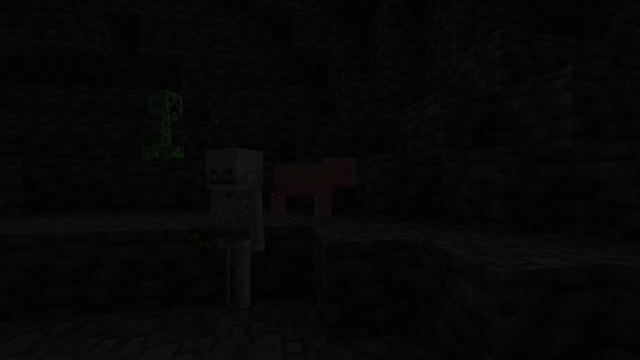cochons: (277, 161, 334, 218)
creepers: (144, 84, 183, 146)
squelettes: (205, 148, 260, 317)
